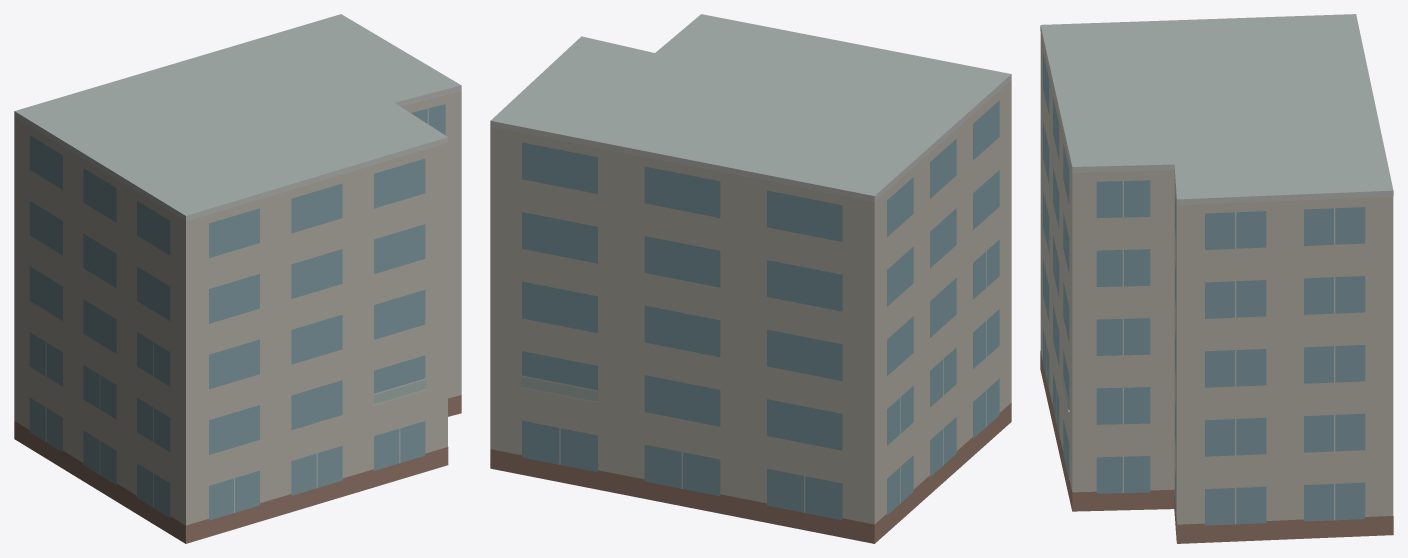
The model's file is survey-upis-32767315.glb.
3 renders of one model, left to right at view 1: azimuth 30°, elevation 25°; view 2: azimuth 150°, elevation 25°; view 3: azimuth 270°, elevation 25°, orthographic. The views are drawn at different scales.
Parts seen in each view (by area): view 1: survey-upis-32767315.tmp; view 2: survey-upis-32767315.tmp; view 3: survey-upis-32767315.tmp.
Part boxes in pixels (x1,y1,x2,y2): survey-upis-32767315.tmp: (14, 14, 461, 543); survey-upis-32767315.tmp: (490, 14, 1011, 543); survey-upis-32767315.tmp: (1040, 14, 1393, 543).
Bounding box in the file's own units: 16.52 × 14.3 × 13.29.
